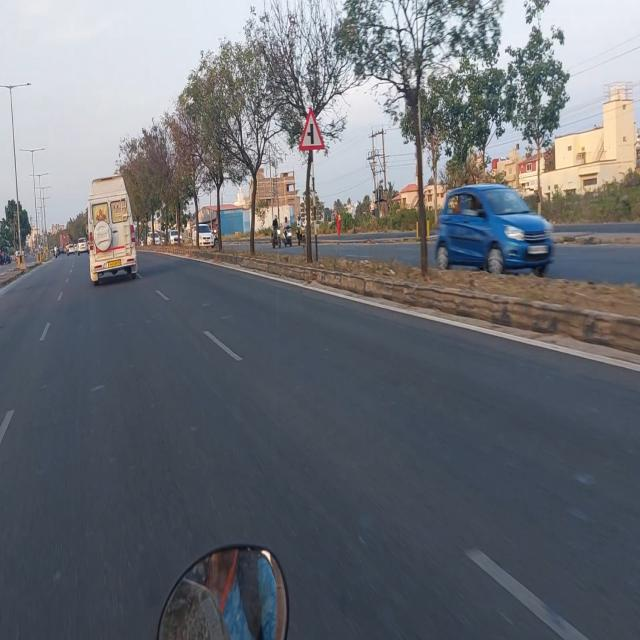bien_cam: (298, 104, 326, 152)
